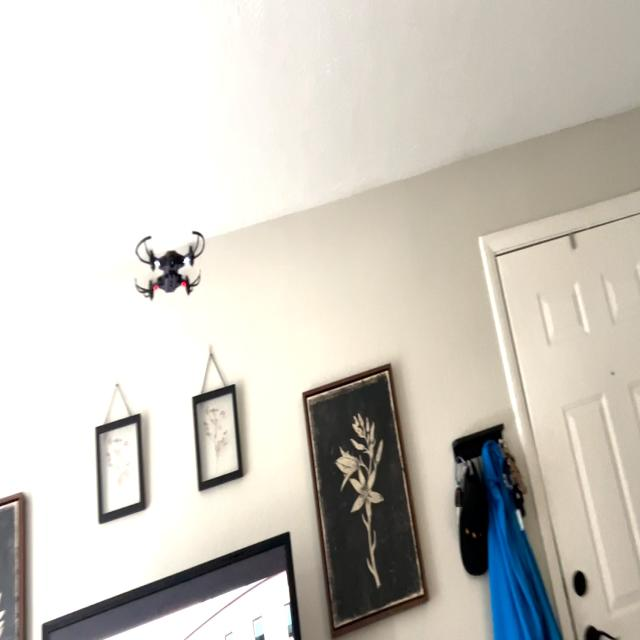drone: (126, 218, 214, 311)
